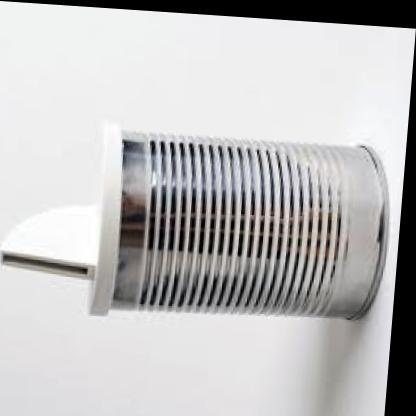trash: (0, 125, 387, 318)
